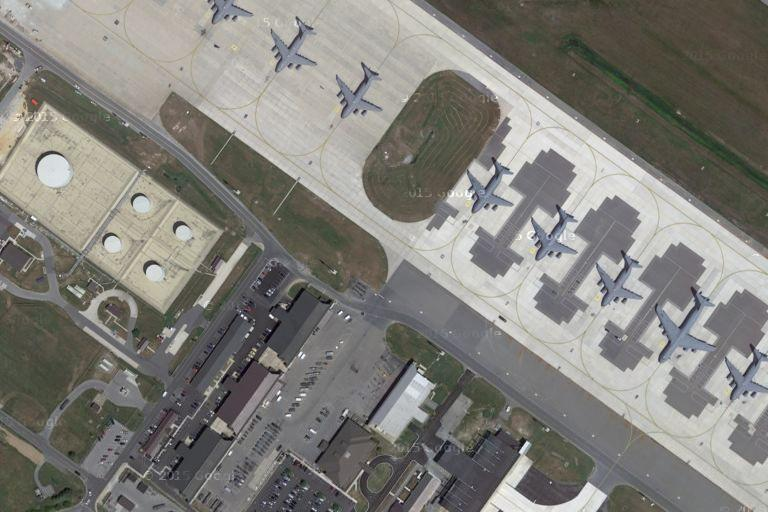C-17: (329, 62, 386, 126), (524, 204, 582, 266), (266, 16, 322, 75), (590, 250, 643, 311), (462, 159, 516, 217), (718, 343, 768, 404)
KC-135: (653, 284, 721, 364)
